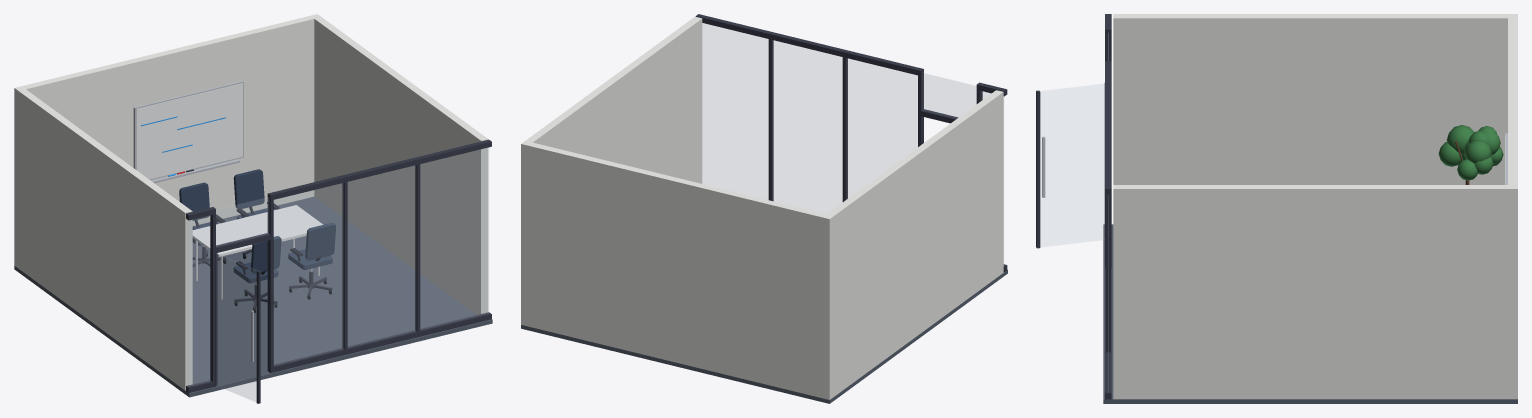
3 views of the same model, side by side, from view 1: azimuth 30°, elevation 25°; view 2: azimuth 150°, elevation 25°; view 3: azimuth 270°, elevation 25° (orthographic). The views are drawn at different scales.
Visible parts, largest first — view 1: office_wall, glass_clear, office_carpet, white, dark_steel, chair_fabric, stainless, plastic_dark; view 2: office_wall, glass_clear, dark_steel, office_carpet; view 3: office_wall, glass_clear, dark_steel, office_carpet, leaf.
Part boxes in pixels (x1,y1,x2,y2): office_wall: (14, 14, 488, 390); glass_clear: (189, 148, 488, 401); office_carpet: (14, 196, 492, 397); white: (136, 83, 323, 256); dark_steel: (186, 139, 491, 403); chair_fabric: (179, 169, 335, 283); stainless: (133, 80, 253, 362); plastic_dark: (186, 169, 321, 274); office_wall: (521, 16, 1003, 399); glass_clear: (703, 23, 990, 213); dark_steel: (695, 14, 1007, 272); office_carpet: (521, 269, 1007, 403); office_wall: (1113, 14, 1517, 399); glass_clear: (1040, 33, 1108, 391); dark_steel: (1036, 14, 1111, 399); office_carpet: (1103, 224, 1517, 403); leaf: (1438, 125, 1503, 180).
Bounding box in the file's own units: 5 × 2.86 × 5.81.
